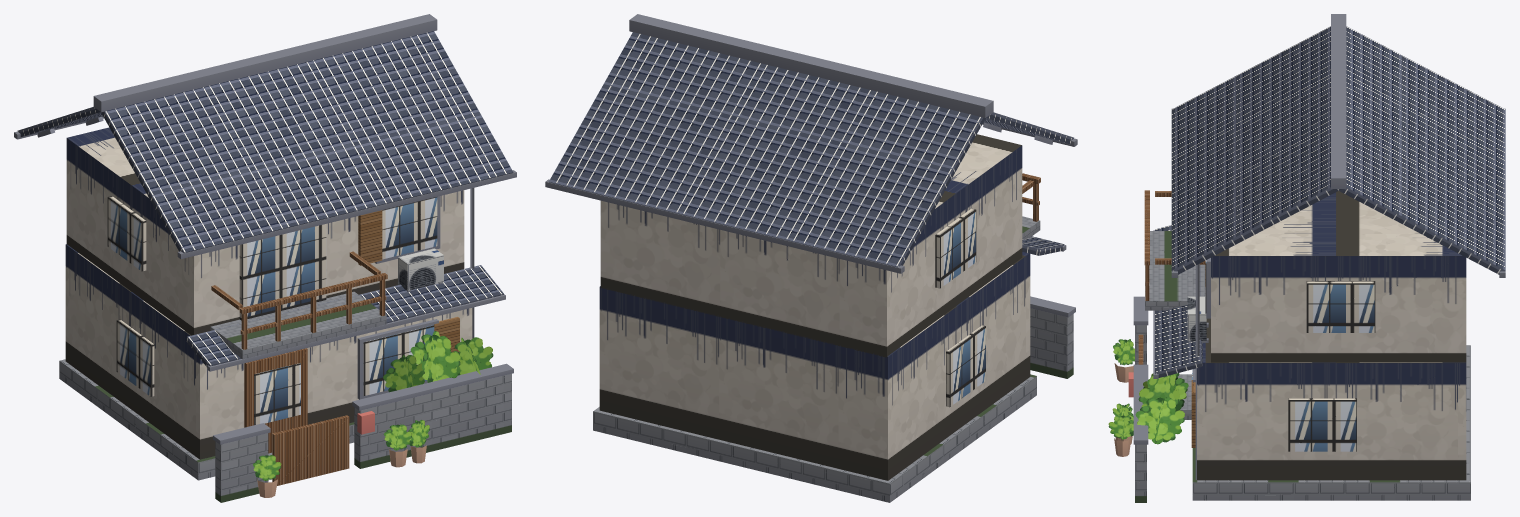
The model's file is tokyo_house_2f.glb.
The picture shows the model from 3 angles, left to right: view 1: azimuth 30°, elevation 25°; view 2: azimuth 150°, elevation 25°; view 3: azimuth 270°, elevation 25°; orthographic projection. The views are drawn at different scales.
Visible parts, largest first — view 1: tokyo_house_2f; view 2: tokyo_house_2f; view 3: tokyo_house_2f.
Part boxes in pixels (x1,y1,x2,y2): tokyo_house_2f: [14, 14, 516, 502]; tokyo_house_2f: [545, 14, 1077, 502]; tokyo_house_2f: [1108, 14, 1505, 502].
Bounding box in the file's own units: 8.52 × 8.12 × 8.75.
Materials: 11 (8 with a texture image).
